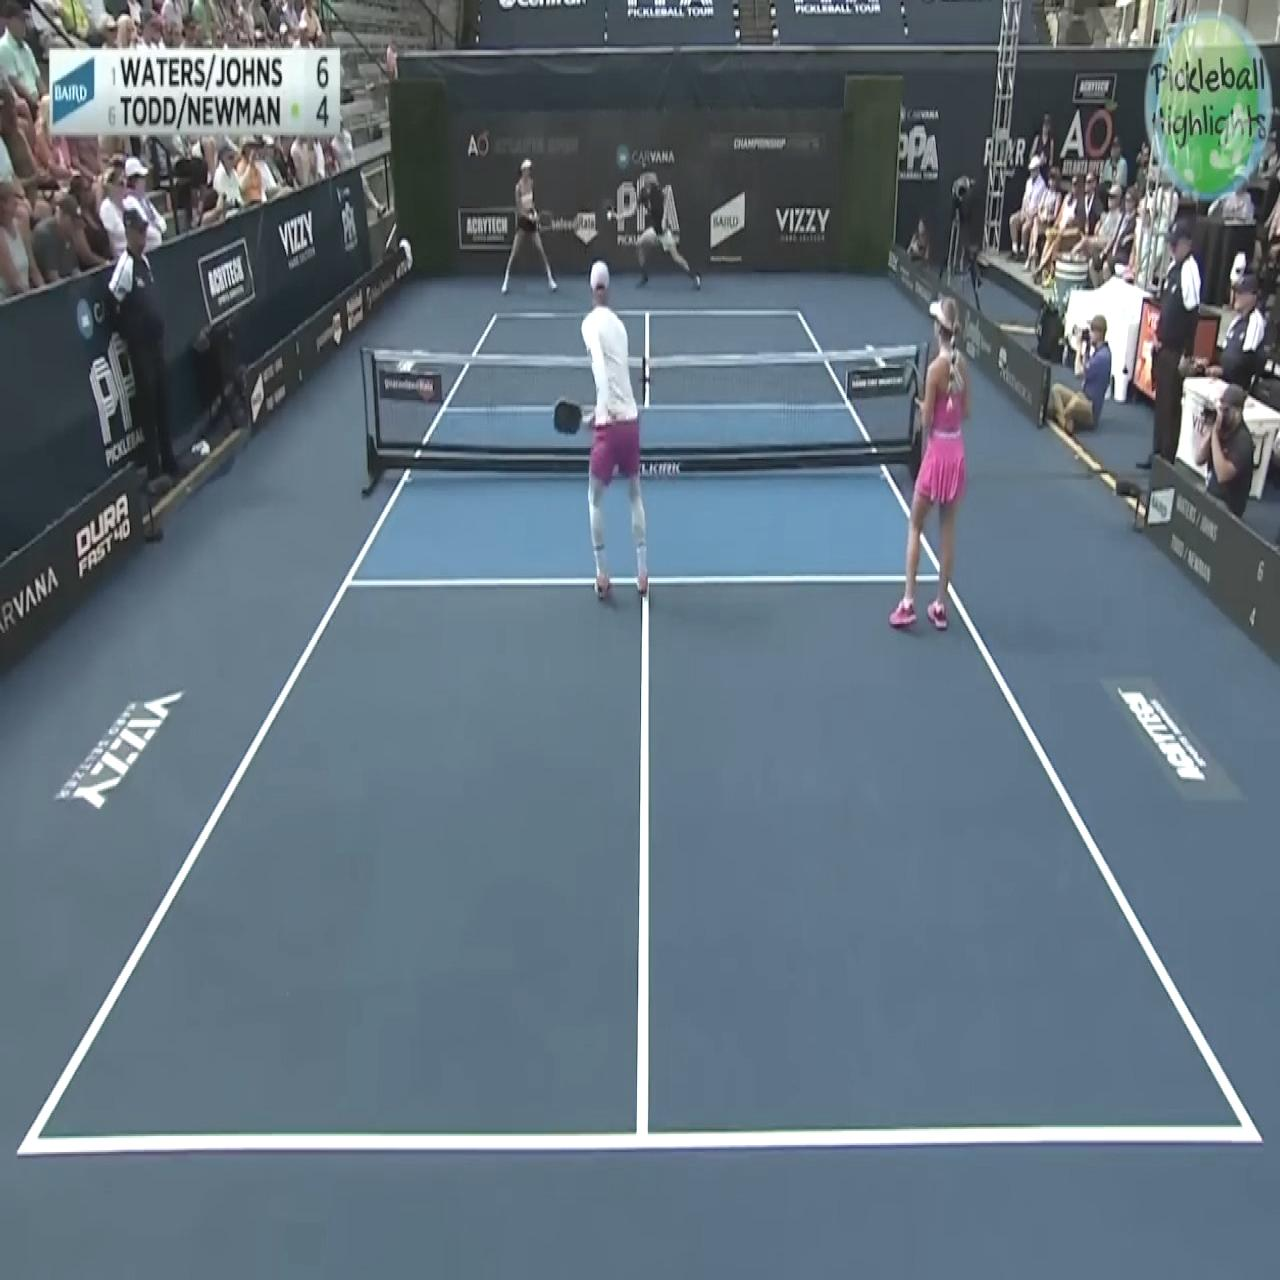Pickleball: (605, 204, 615, 220)
